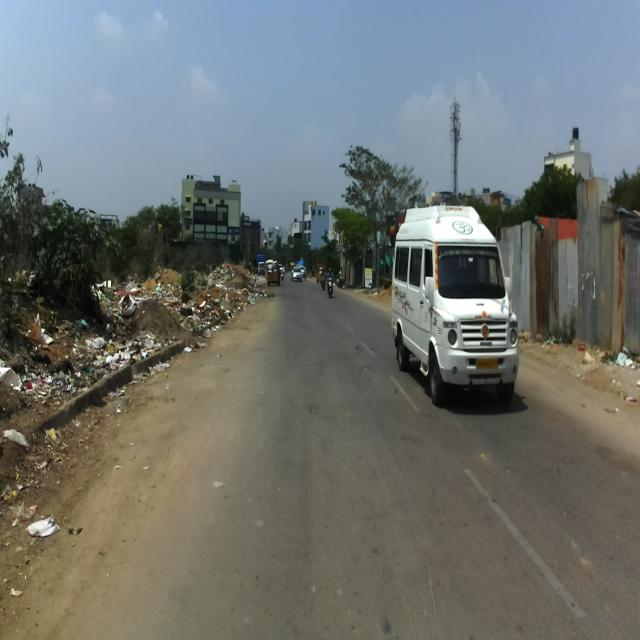bus ahead at: (389, 204, 526, 410)
